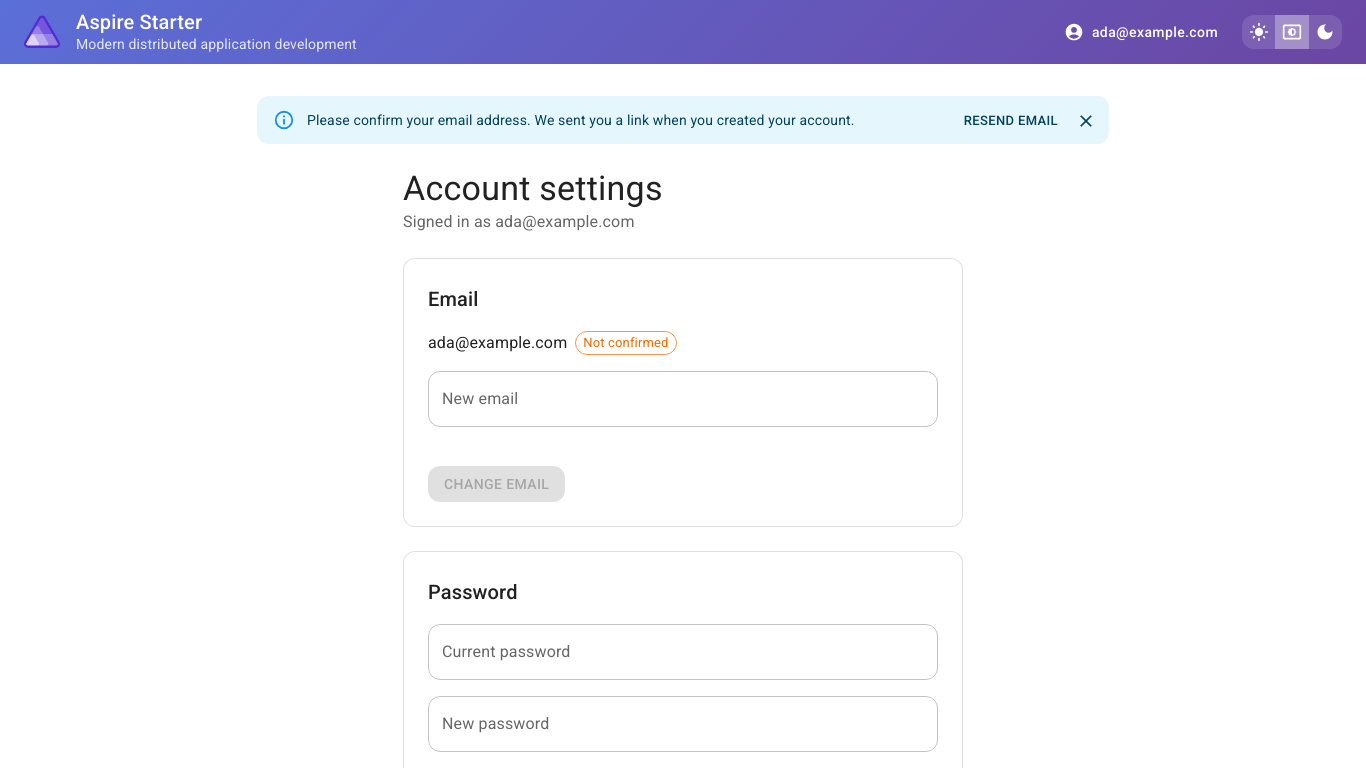
Test: EmailSection › blocks an invalid address
In the field labelled "New email": (683, 399) [428, 371, 938, 427], type "ada@new"
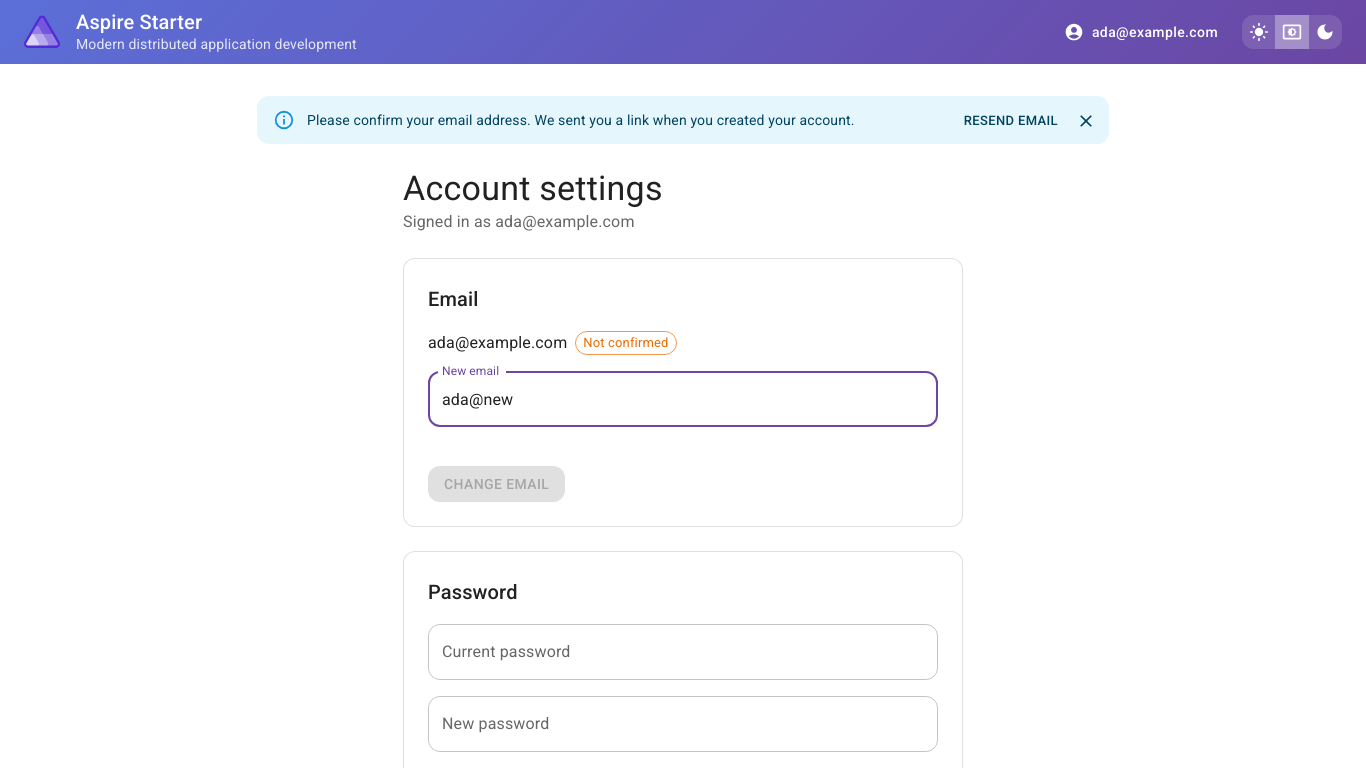
Press Tab
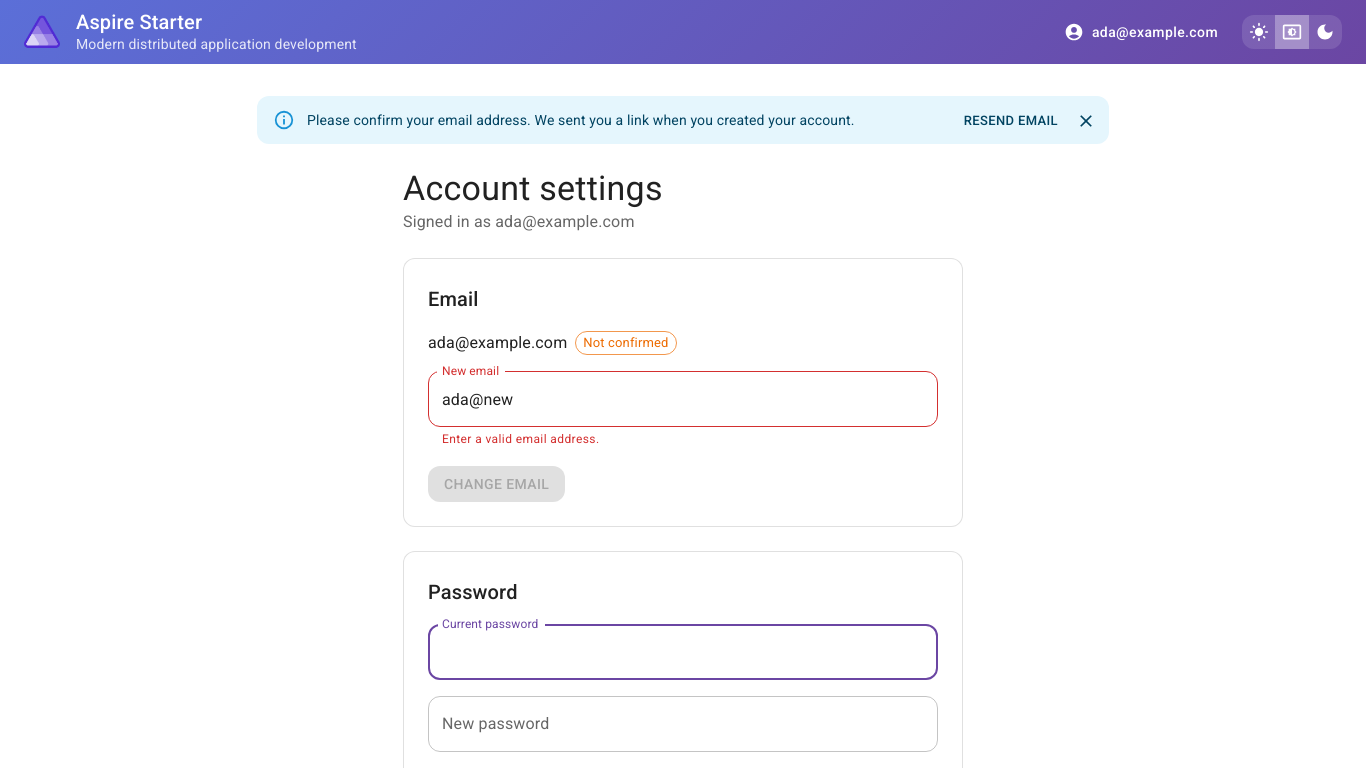
Check: the button "Change email" is disabled, box [428, 466, 565, 502]
Check: the text "Enter a valid email address." is shown, box [442, 432, 600, 446]
